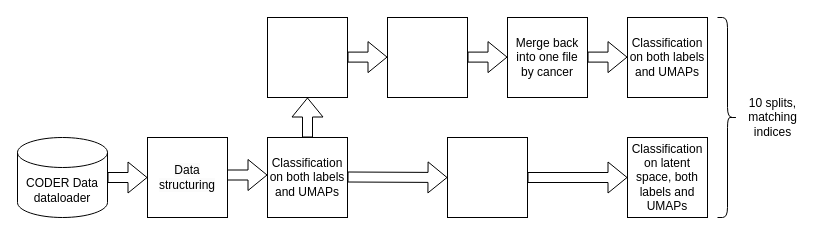
This 825x235 diagram has some shape labels left out. The centre of each missing label's shape, as x and y in pixels:
mbatch: point 427,57
Split into two files by cancer: point 307,57
VAE: point 487,177
